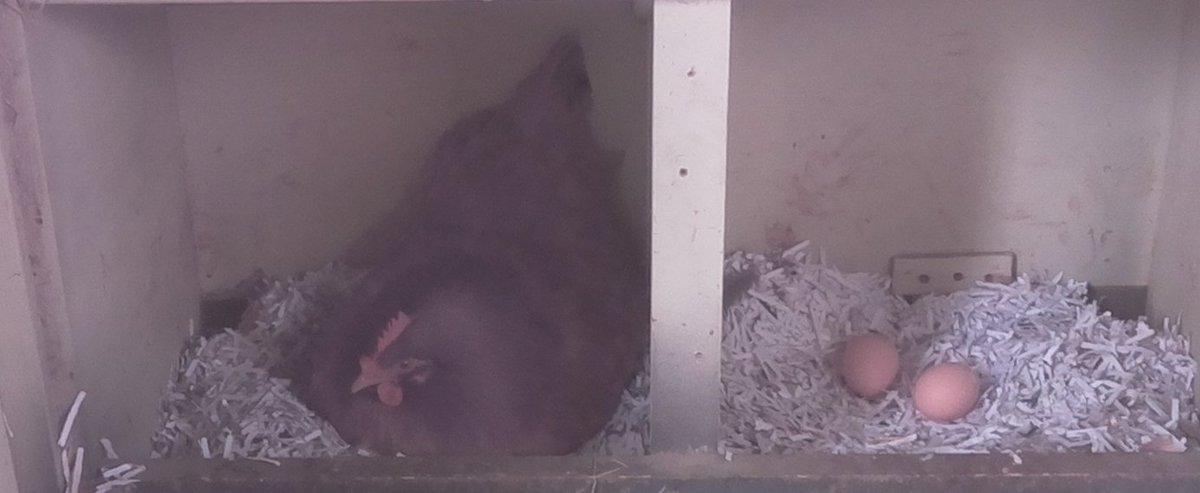egg: (839, 327, 904, 404), (912, 360, 983, 424)
hen: (291, 69, 640, 449)
